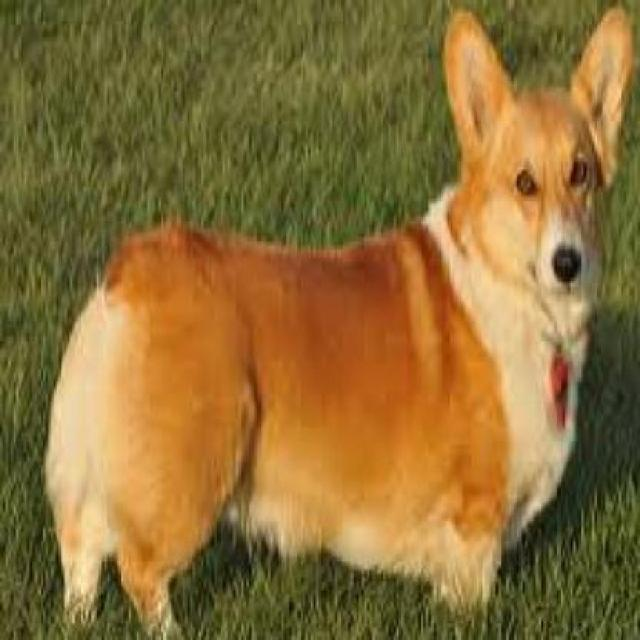Dog: (41, 6, 638, 639)
